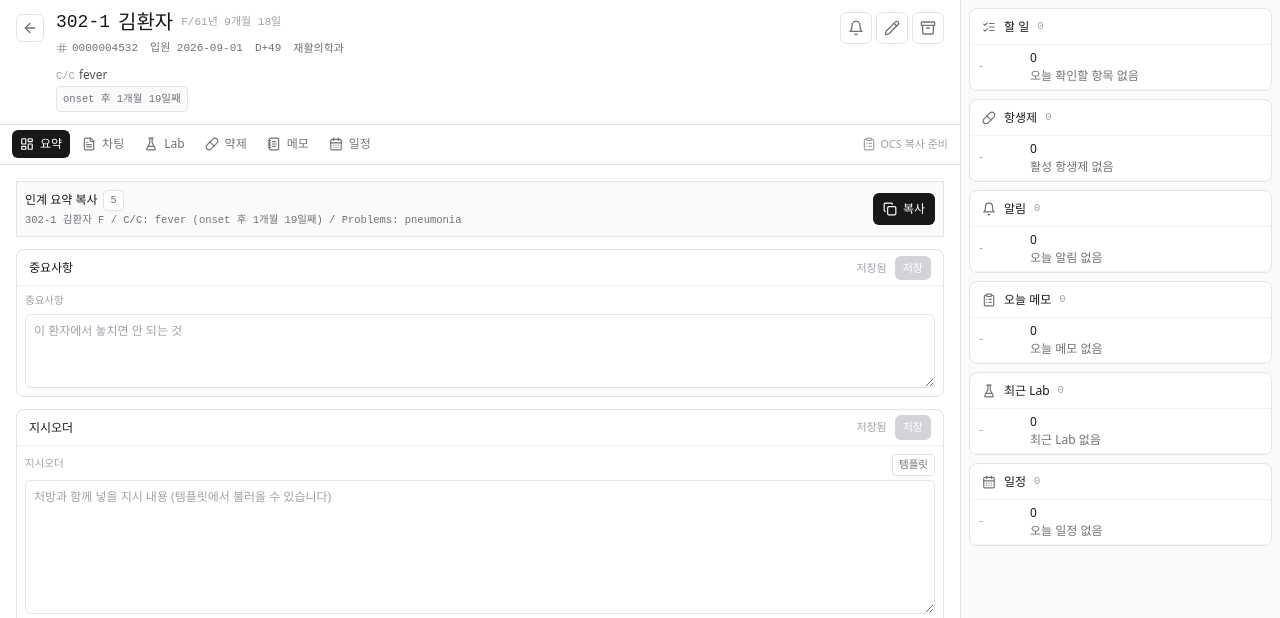
it: PatientWorkspace tab rendering › switches tabs from the tab bar
Click the button "차팅". click: (103, 144)
box: 74,130 -> 132,158
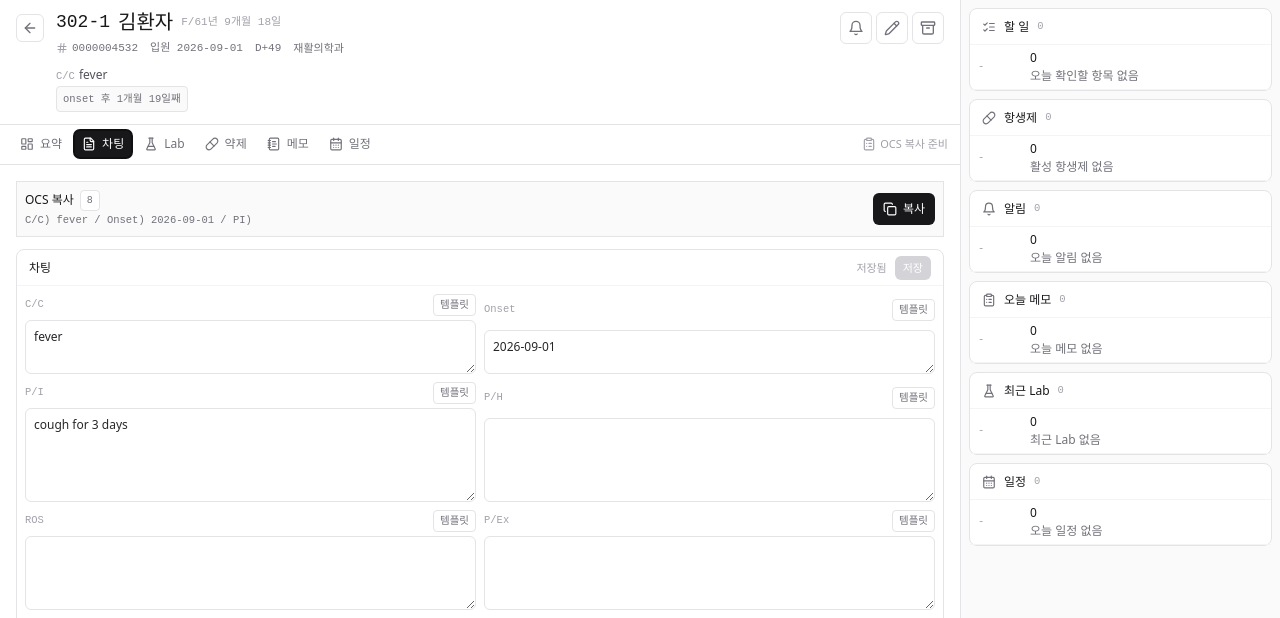
Result: the text box showing "fever" is shown at 25,320 -> 476,374
